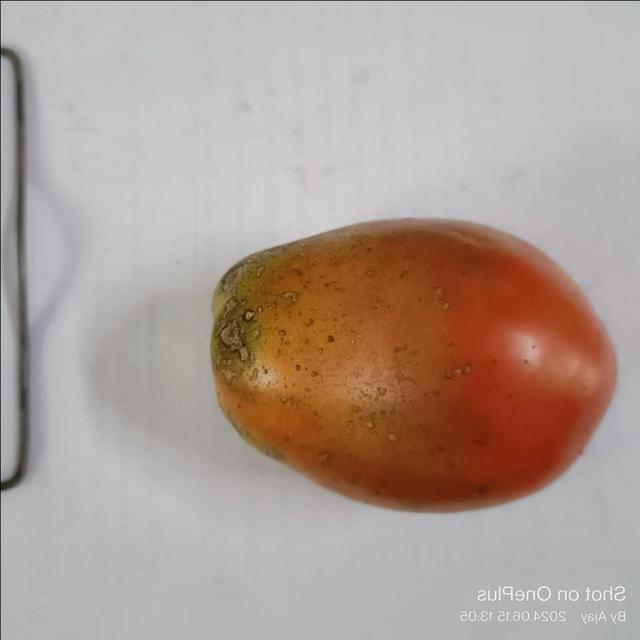Bacterial Spot Fruit: (4, 4, 246, 282)
